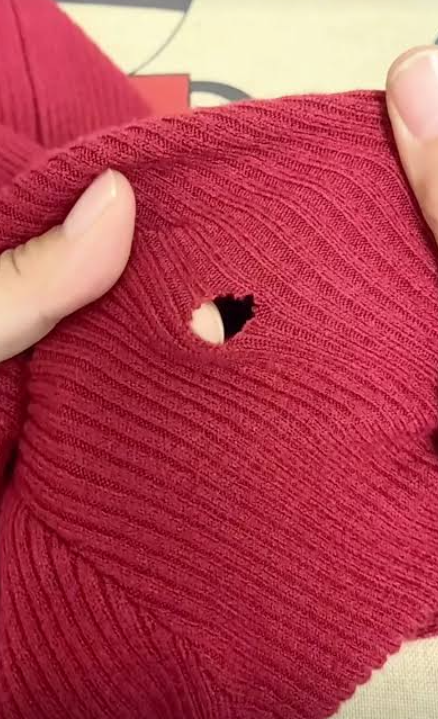hole_2: (180, 285, 260, 345)
